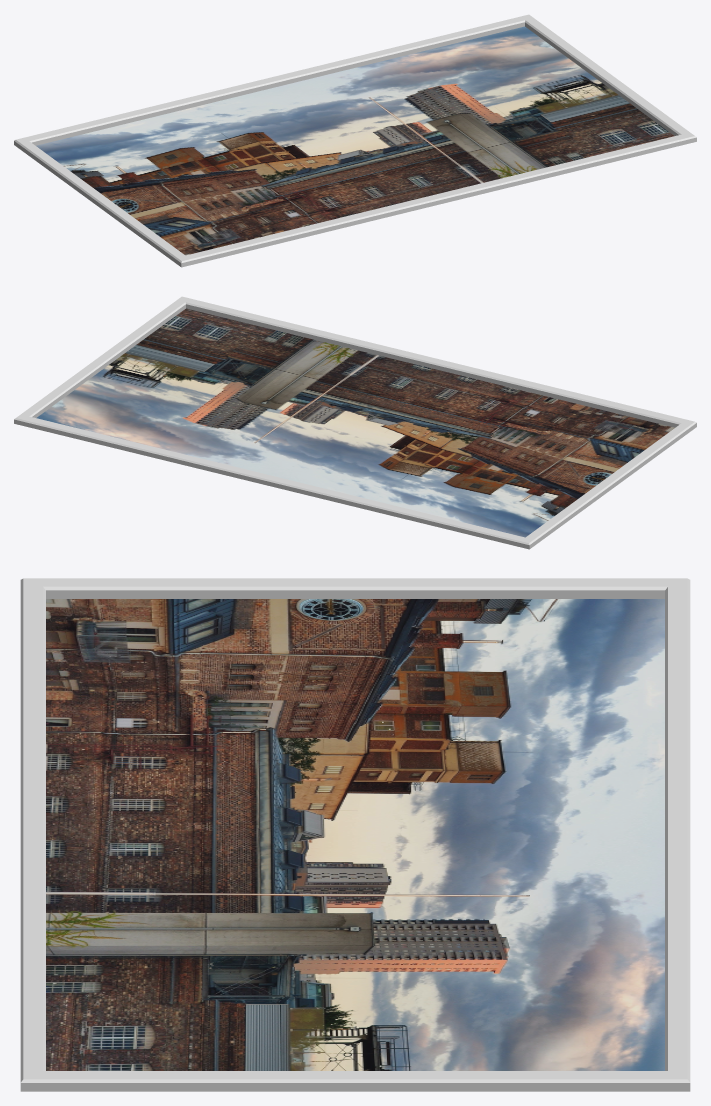
File: painting-003.glb
3 renders of one model, top to bottom at view 1: azimuth 30°, elevation 25°; view 2: azimuth 150°, elevation 25°; view 3: azimuth 270°, elevation 25°, orthographic. The views are drawn at different scales.
Parts seen in each view (by area): view 1: Plane.001, Plane; view 2: Plane.001, Plane; view 3: Plane.001, Plane.
Part boxes in pixels (<box>): Plane.001: <box>36,26,674,255</box>; Plane: <box>14,14,696,267</box>; Plane.001: <box>36,308,674,537</box>; Plane: <box>14,296,696,549</box>; Plane.001: <box>46,599,664,1070</box>; Plane: <box>20,578,690,1091</box>.
Bounding box in the file's own units: 1.96 × 0.02 × 1.1.
Materials: 2 (1 with a texture image).
